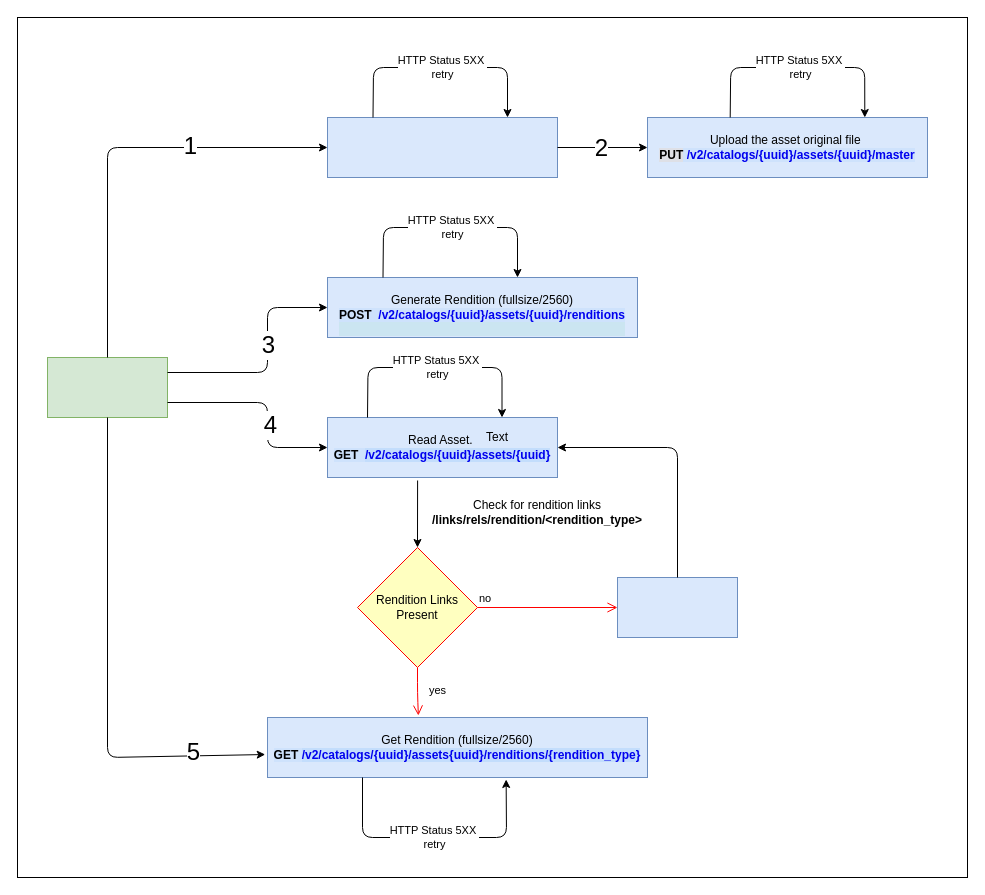
The diagram is 985 pixels wide and 895 high, and some of its shapes have lost their labels. The shapes that lost their labels are listed below. From the top down, each one's centre as x and y in pixels, then its label:
At (442,147): "Create Asset PUT /v2/catalogs/{uuid}/assets/{uuid}".
At (107,387): "User Logged to Lighroom from Partner Application".
At (677,607): "Read Asset Again".
